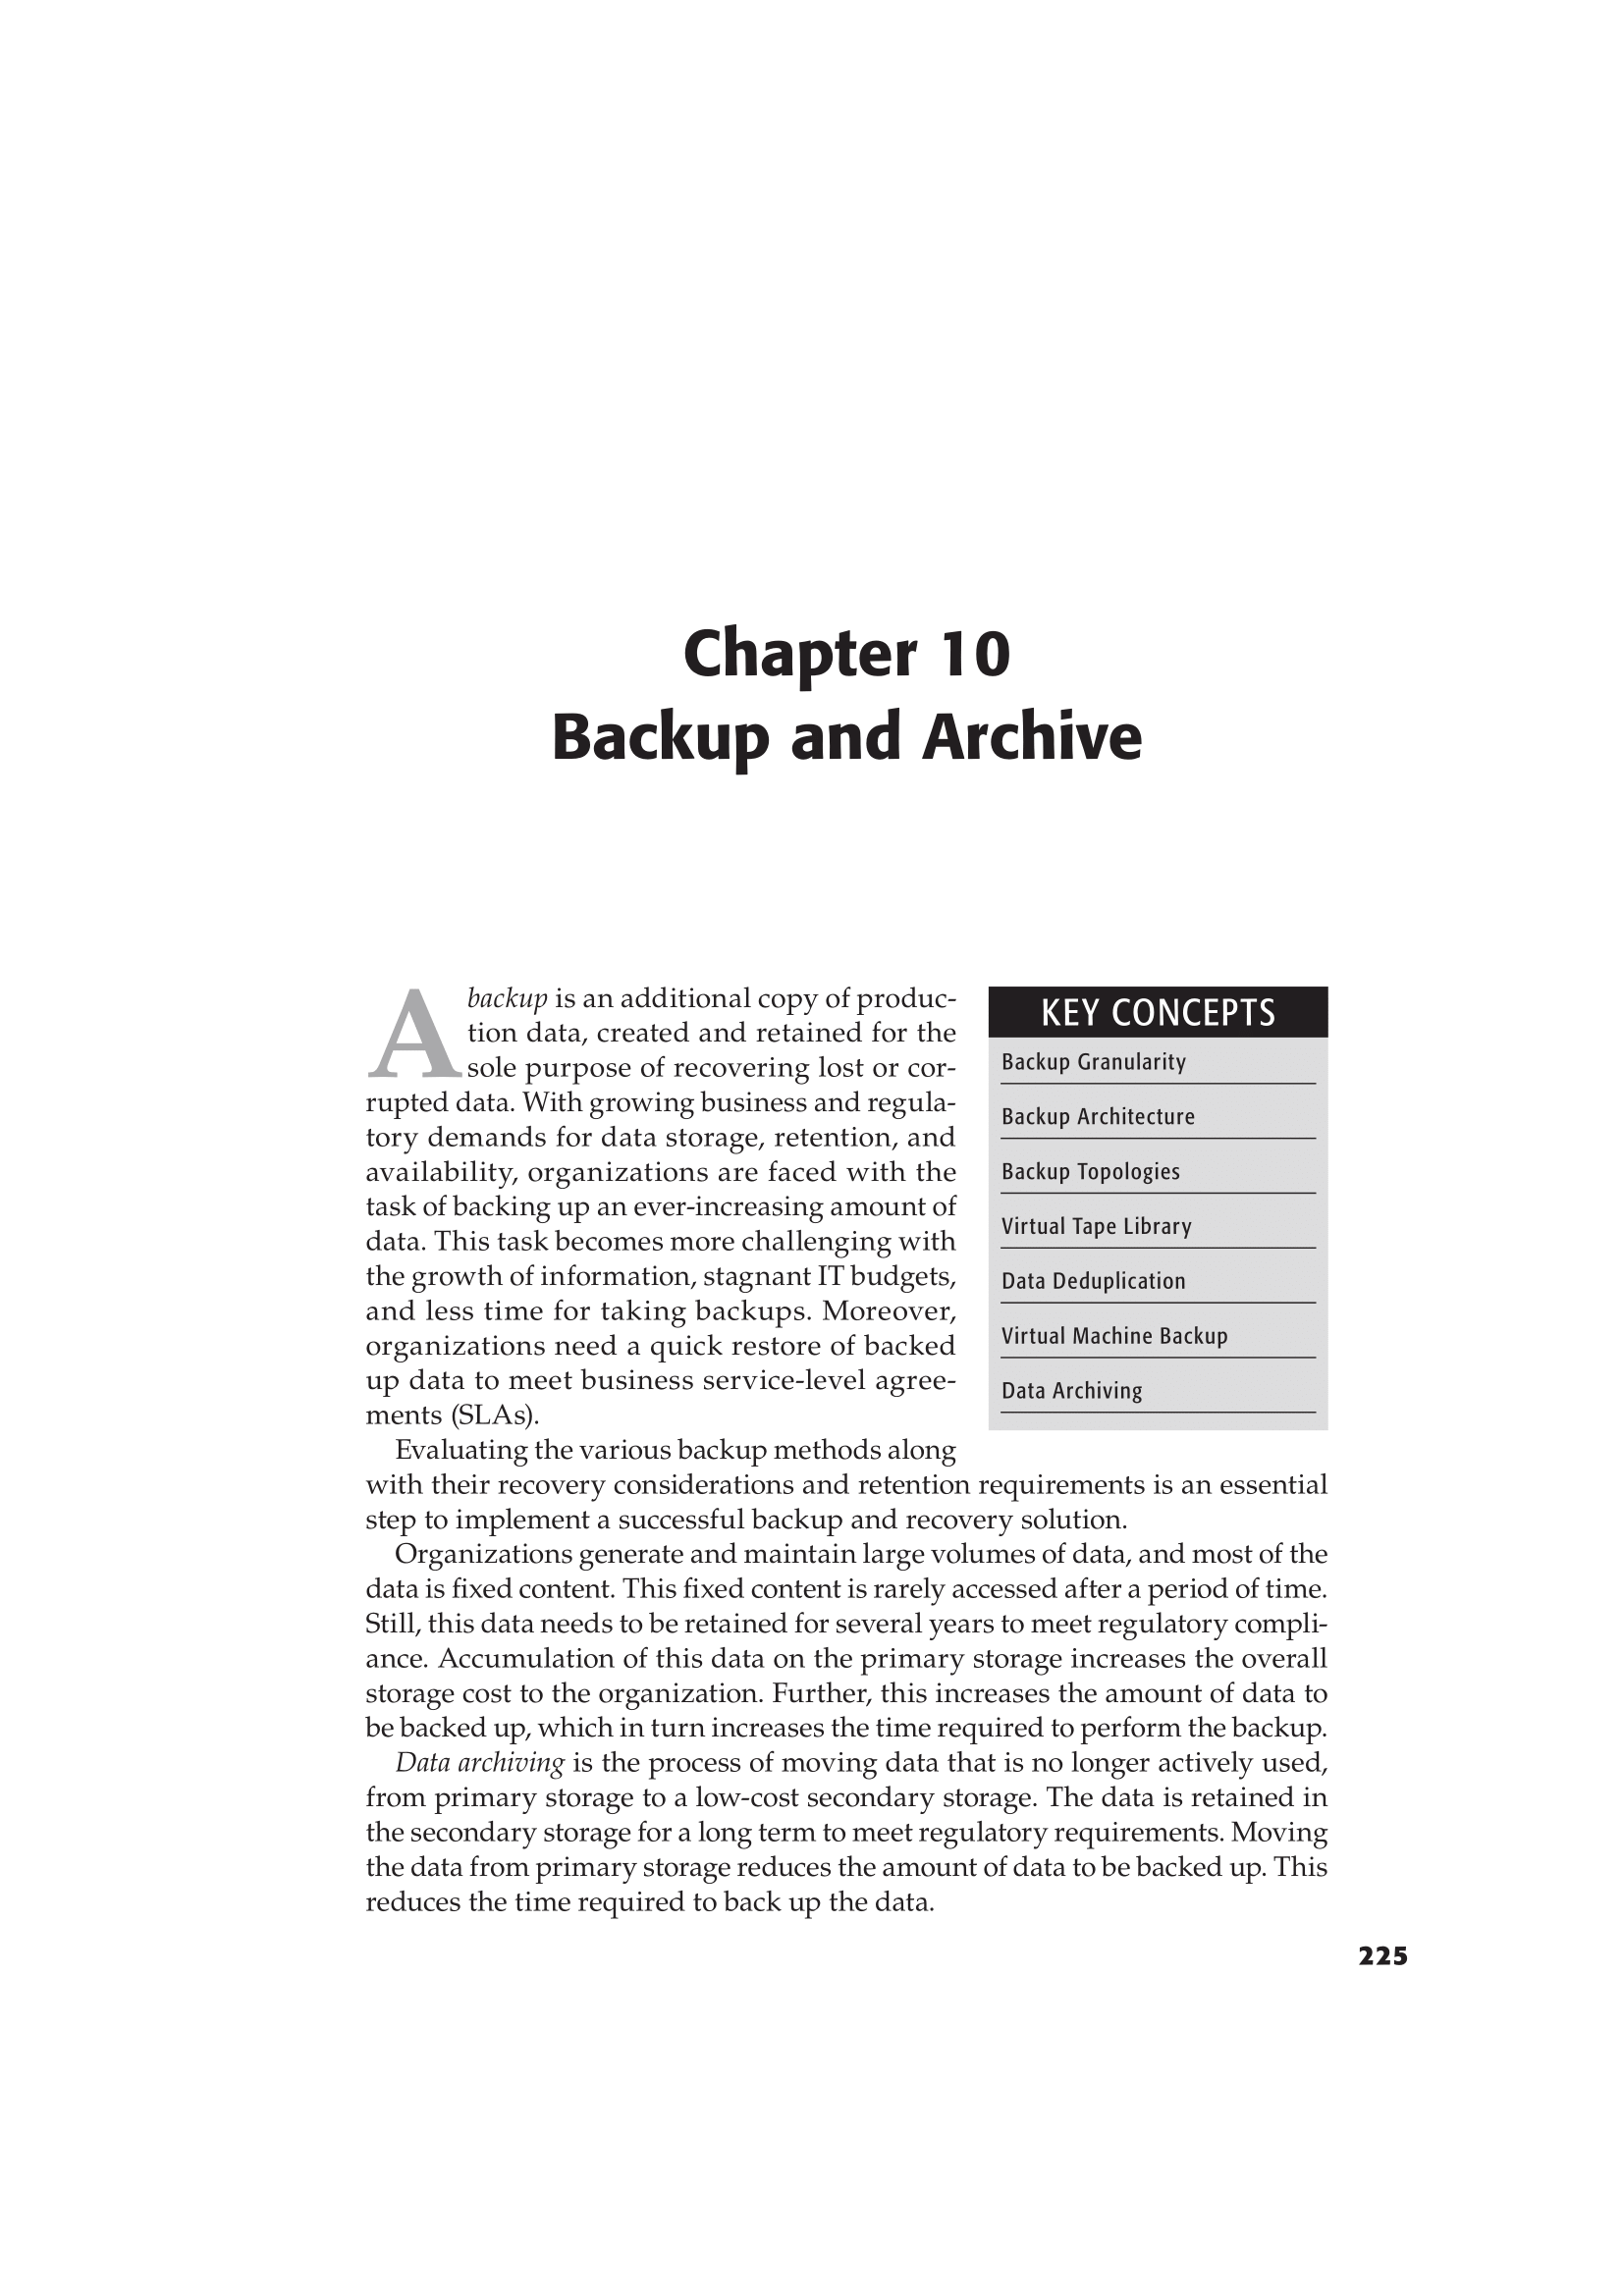Paragraph: (334, 960, 973, 1432), (364, 1534, 1333, 1747), (364, 1754, 1338, 1926), (334, 1436, 1335, 1532), (539, 679, 1159, 771), (639, 570, 1050, 699), (987, 1306, 1247, 1359), (1038, 988, 1288, 1036), (989, 1255, 1205, 1306), (1001, 1197, 1205, 1243), (980, 1155, 1210, 1195), (1001, 1090, 1200, 1136), (984, 1367, 1159, 1417), (989, 1039, 1196, 1078)
